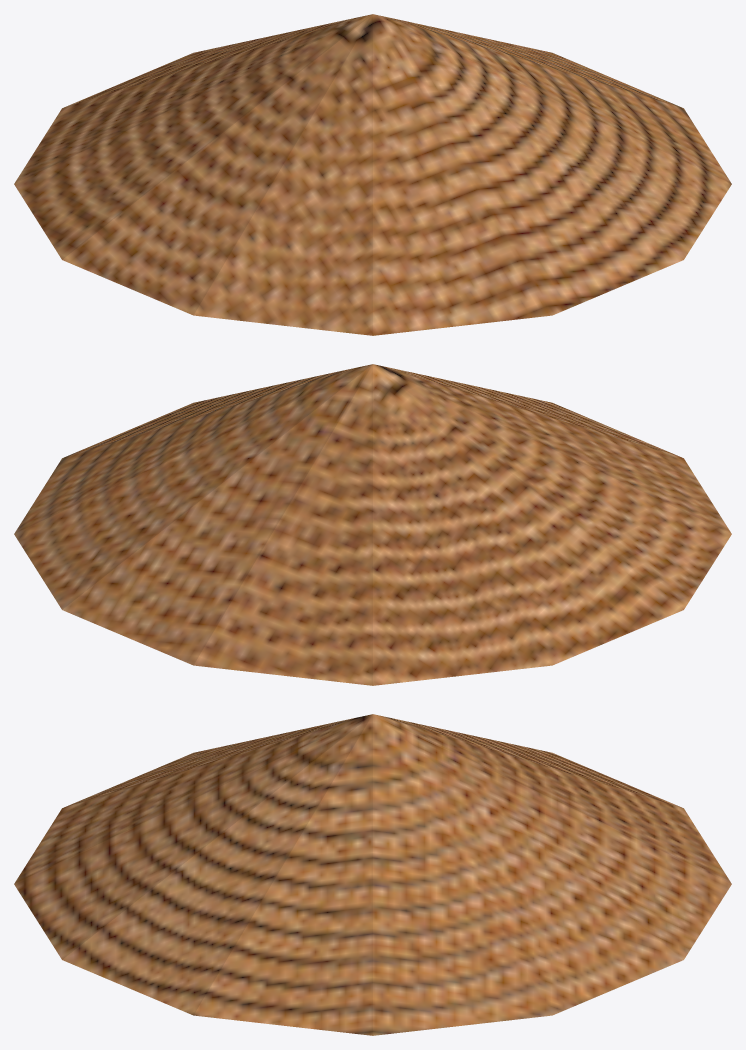
File: amogus-hat-chinese.fbx
The picture shows the model from 3 angles, top to bottom: view 1: azimuth 30°, elevation 25°; view 2: azimuth 150°, elevation 25°; view 3: azimuth 270°, elevation 25°; orthographic projection.
Visible parts, largest first — view 1: ChineseHat; view 2: ChineseHat; view 3: ChineseHat.
Part boxes in pixels (box(x1,y1,x2,y2)): ChineseHat: box(14, 14, 731, 335); ChineseHat: box(14, 364, 731, 685); ChineseHat: box(14, 714, 731, 1035).
Bounding box in the file's own units: 154 × 154 × 40.37.
